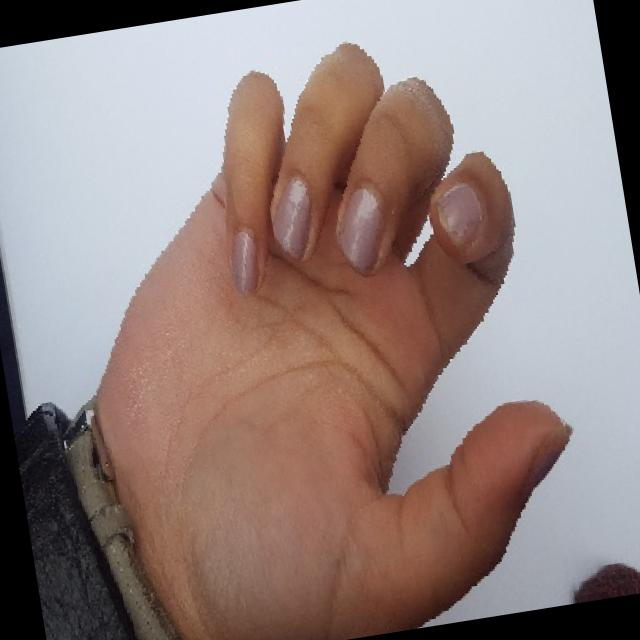Nail: (339, 184, 384, 273), (435, 182, 486, 250), (272, 174, 312, 259), (231, 229, 260, 294)
